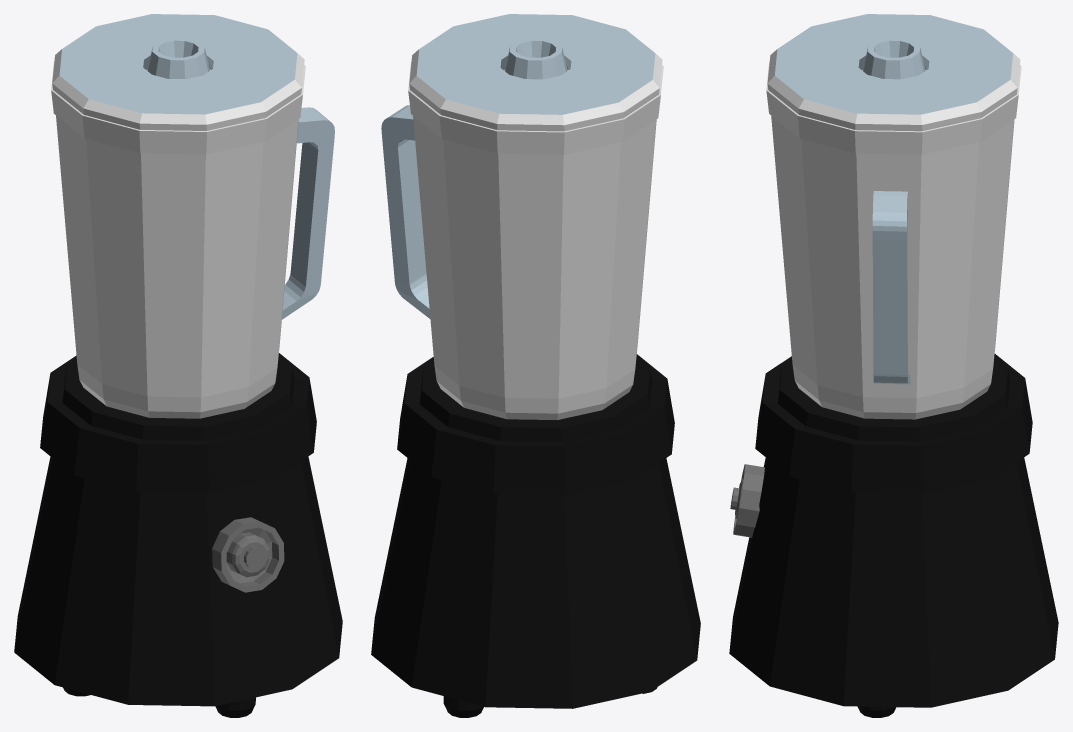
Rendered from Blender.fbx.
3 views of the same model, side by side, from view 1: azimuth 30°, elevation 25°; view 2: azimuth 150°, elevation 25°; view 3: azimuth 270°, elevation 25° (orthographic).
Visible parts, largest first — view 1: Cylinder.031; view 2: Cylinder.031; view 3: Cylinder.031.
Part boxes in pixels (bbox=[...]): Cylinder.031: bbox=[14, 14, 342, 717]; Cylinder.031: bbox=[371, 14, 700, 717]; Cylinder.031: bbox=[729, 14, 1058, 717].
Bounding box in the file's own units: 0.1609 × 0.328 × 0.158.
